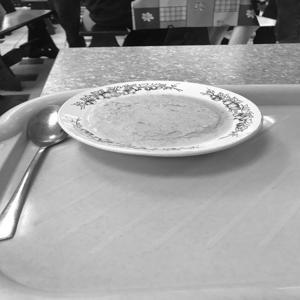porridge: (83, 77, 237, 164)
